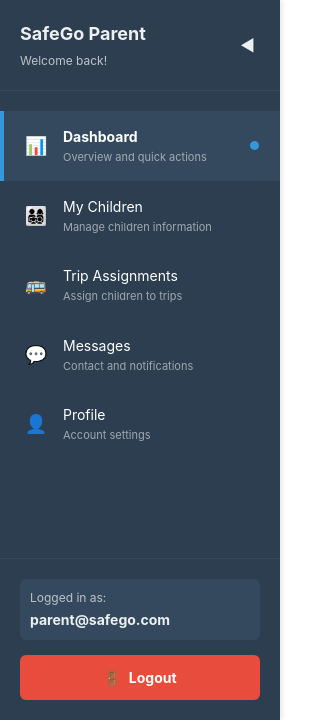
Test: ParentSidebar › toggles sidebar collapse
Step 1. Click the button titled "Collapse sidebar" → (248, 45), box [235,28,260,62]
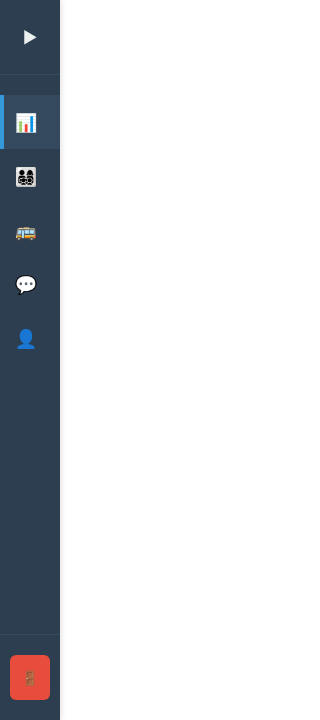
Result: the button titled "Expand sidebar" is shown at [18,20,42,54]
